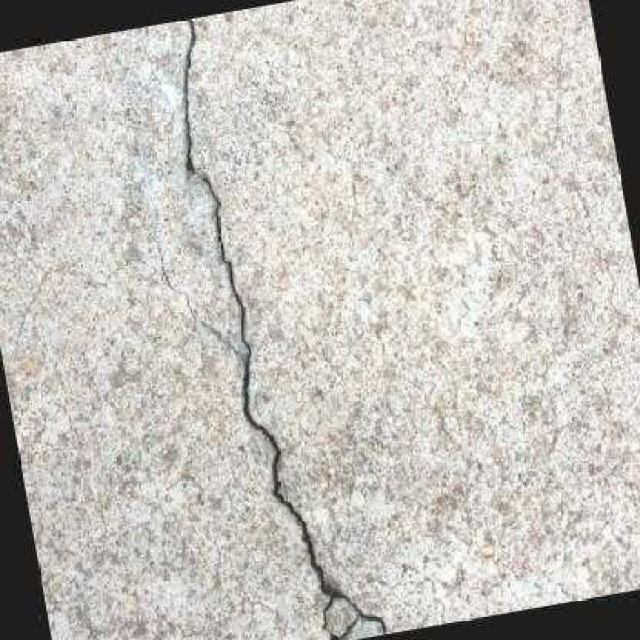D00: (183, 18, 387, 640)
